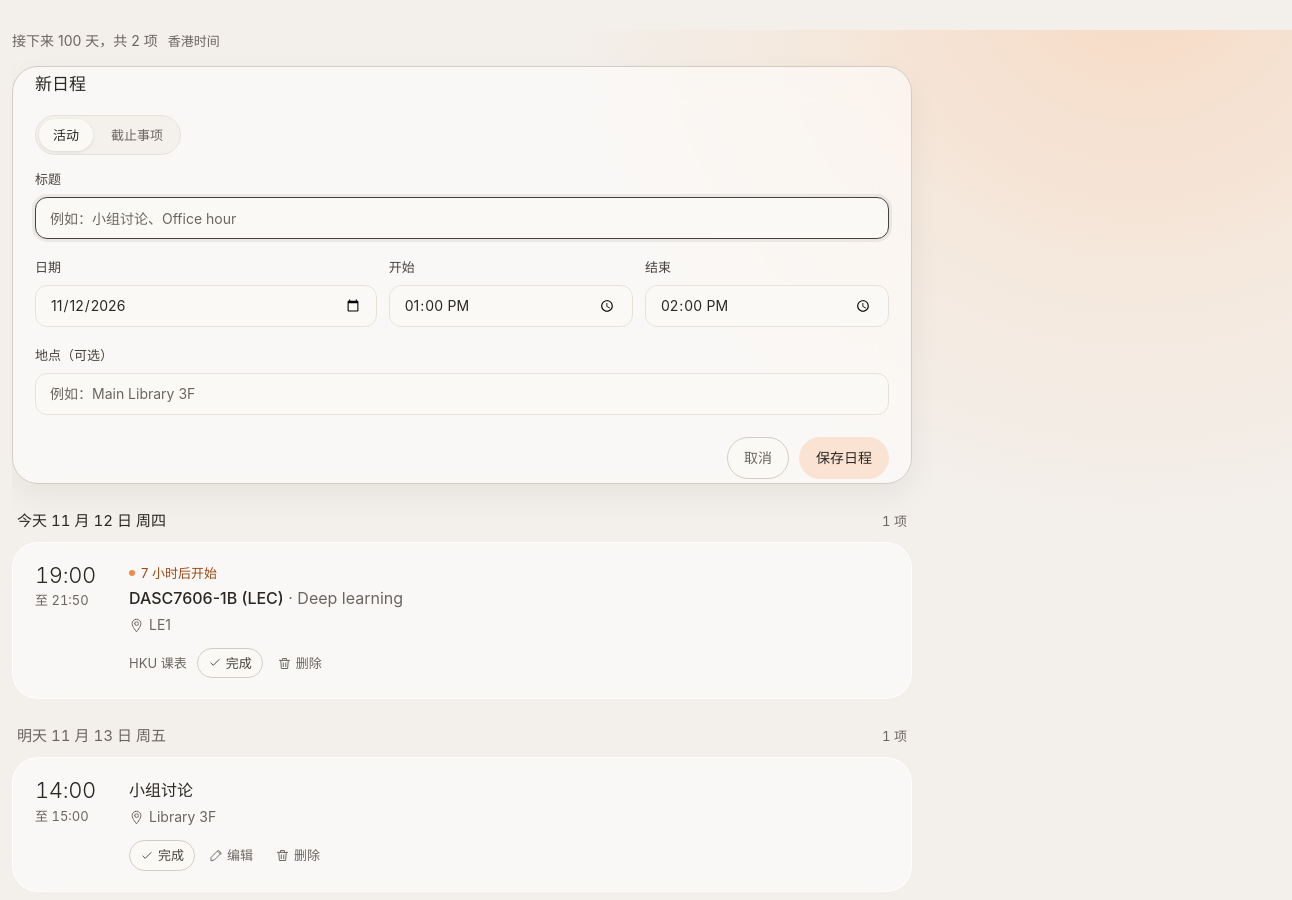
Test: adds a deadline with a single due time and shows its progress bar
Click the radio button labelled "截止事项" at (137, 135), box x1=111 y1=127 x2=163 y2=143
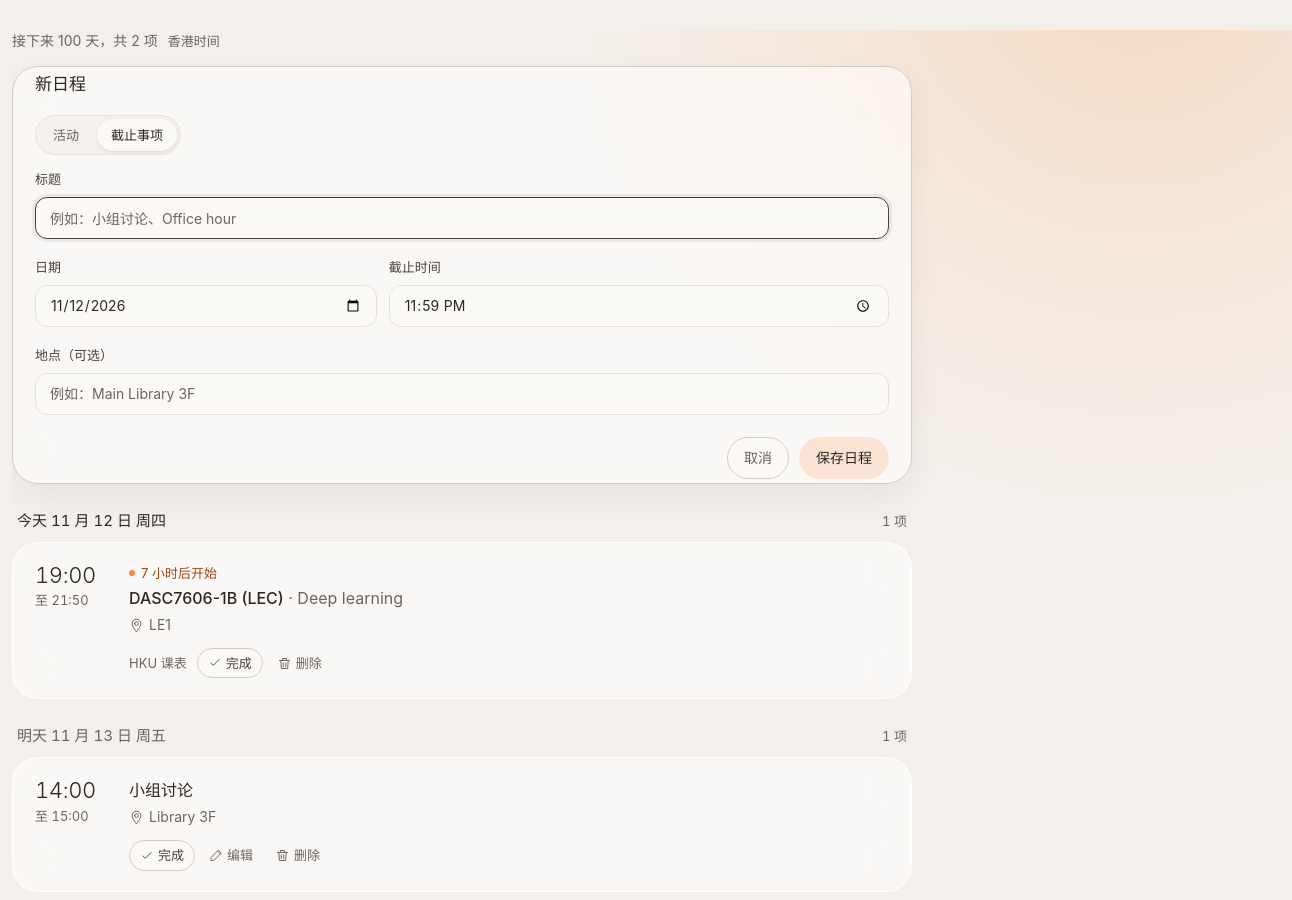
Now the time field labelled "截止时间" holds "23:59", box x1=389 y1=285 x2=889 y2=327
Type "Assignment 2" into the field labelled "标题" at (462, 218), box x1=35 y1=197 x2=889 y2=239
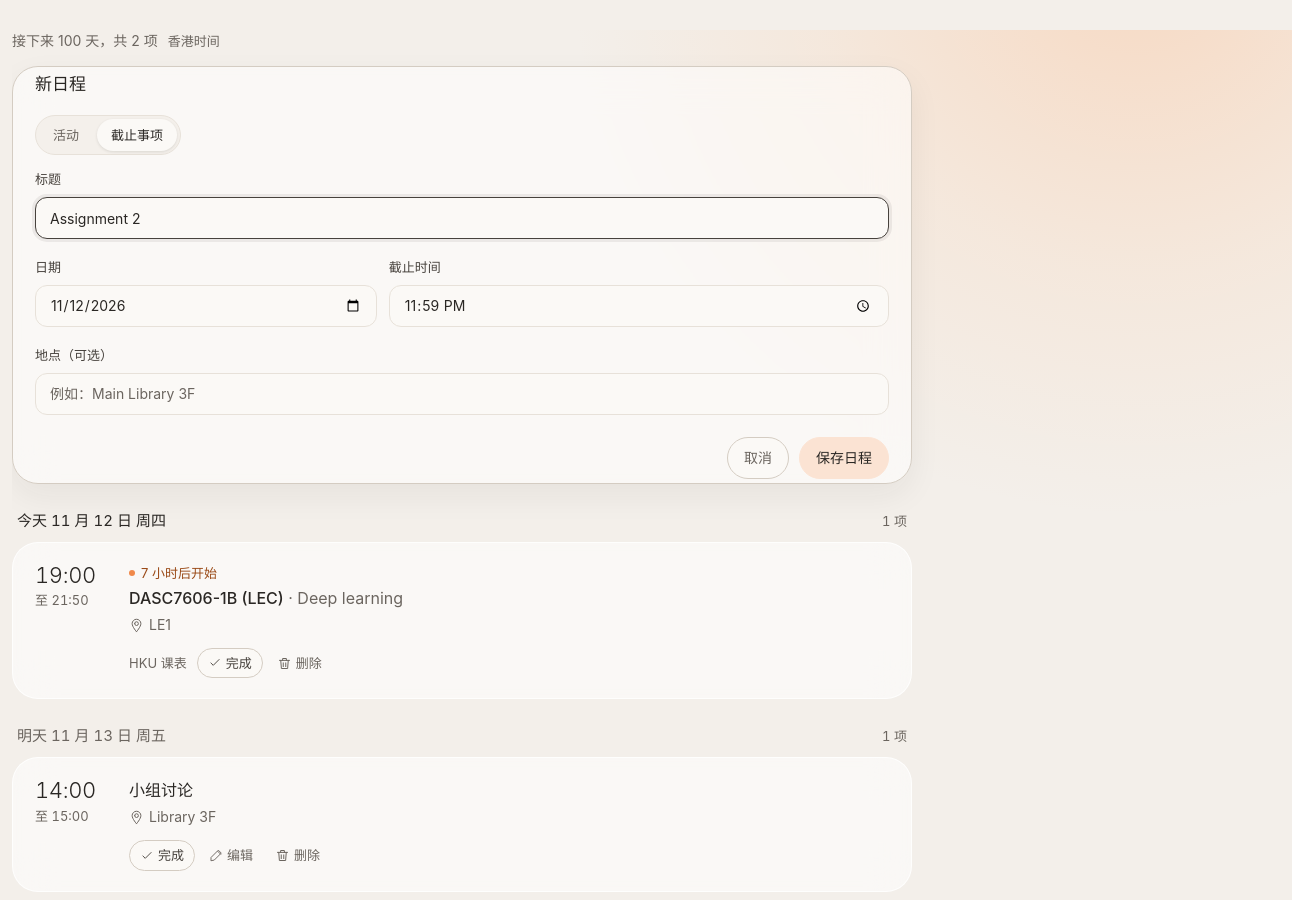
Type "2026-11-20" into the date field labelled "日期" at (206, 306), box x1=35 y1=285 x2=377 y2=327
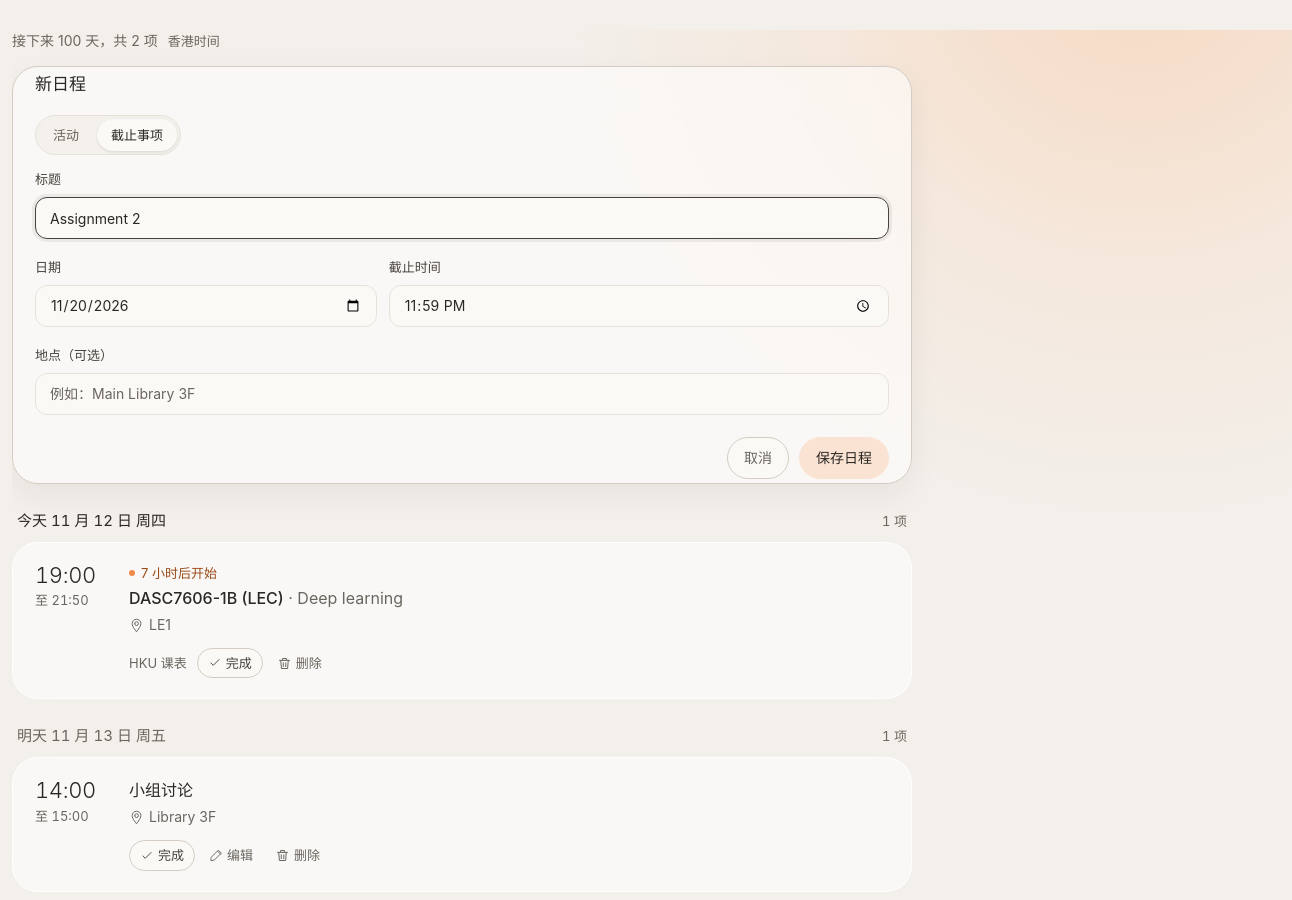
Replace the text in the time field labelled "截止时间" with "18:00" at (639, 306), box x1=389 y1=285 x2=889 y2=327
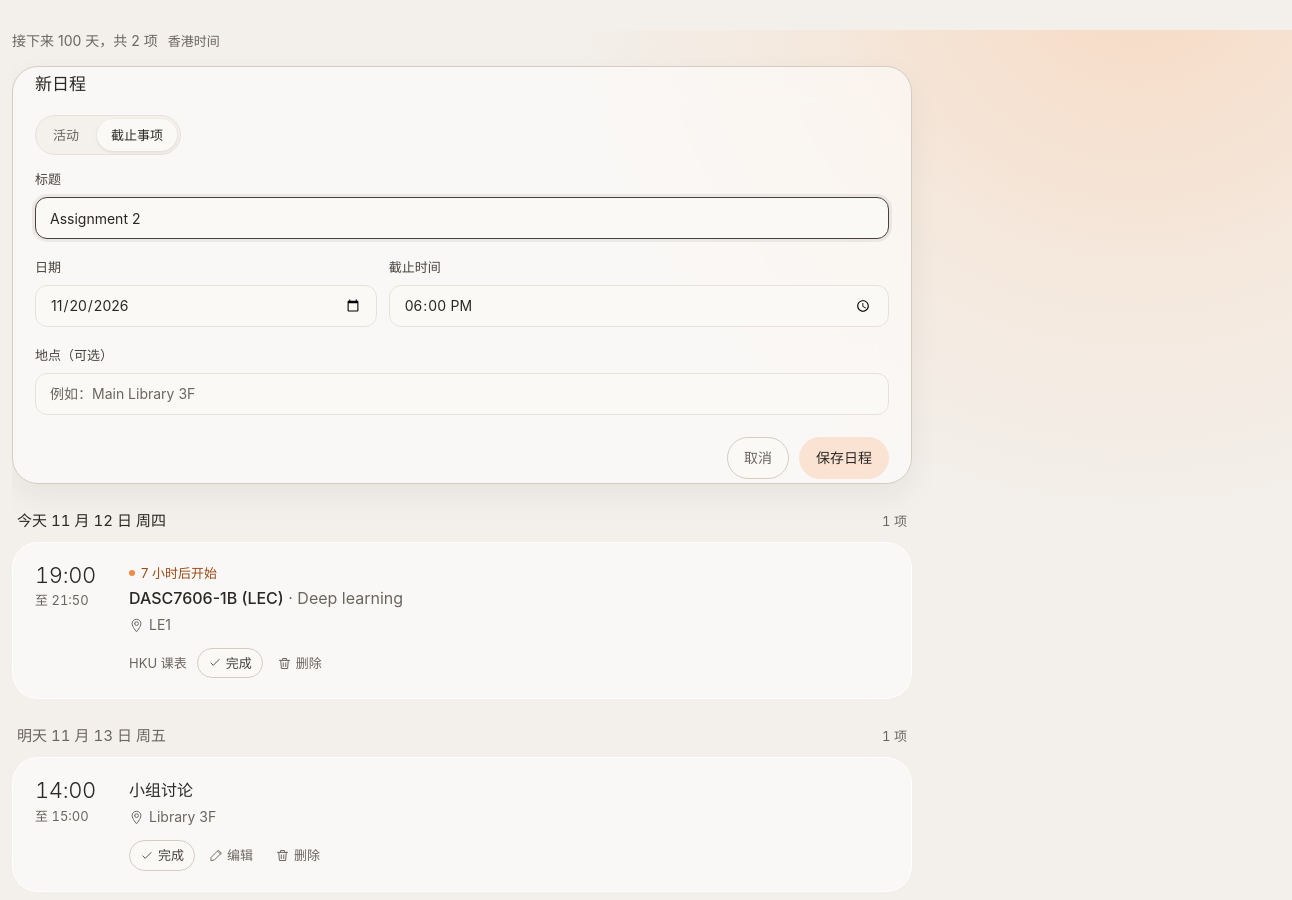
Click the button "保存日程" at (844, 458), box x1=799 y1=437 x2=889 y2=479
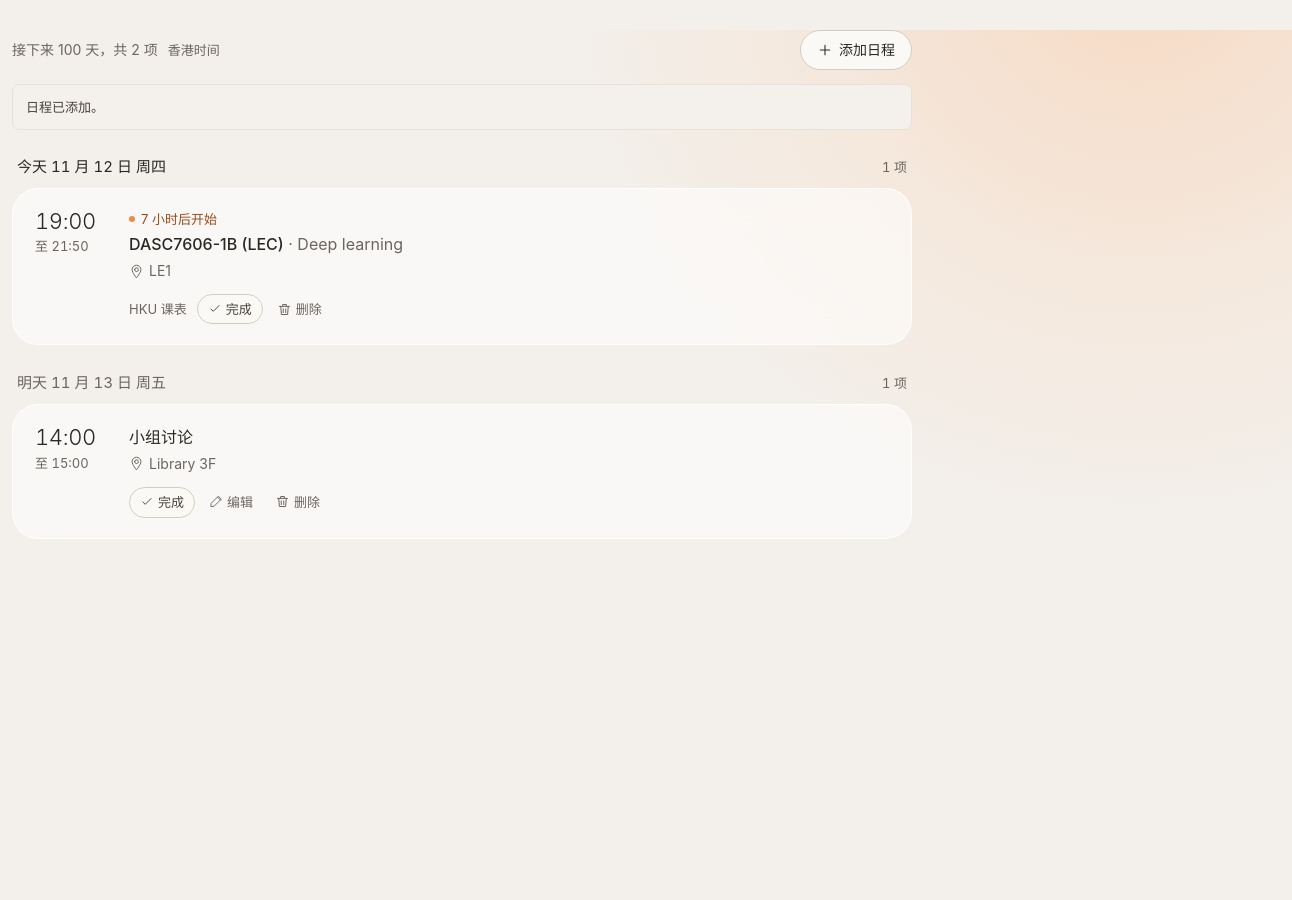
Now the text "日程已添加。" is shown, box x1=12 y1=84 x2=912 y2=130
